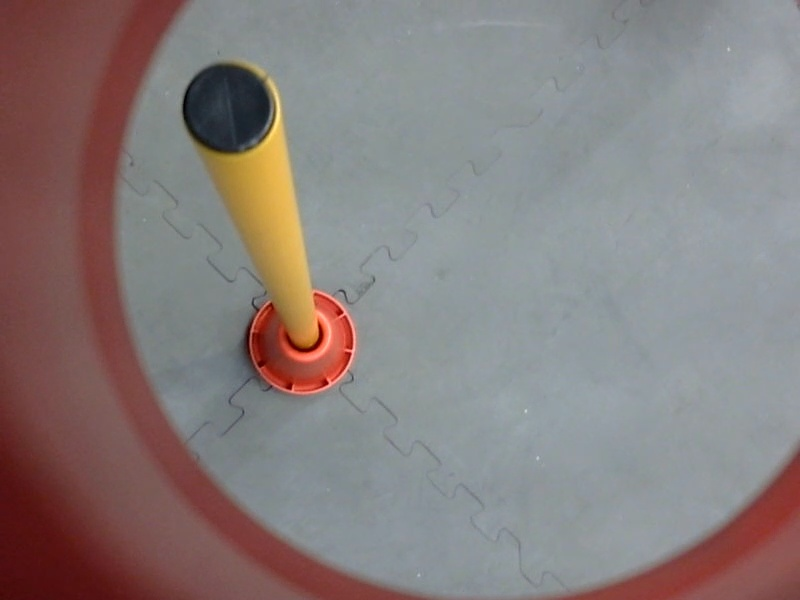tip: (175, 52, 285, 167)
